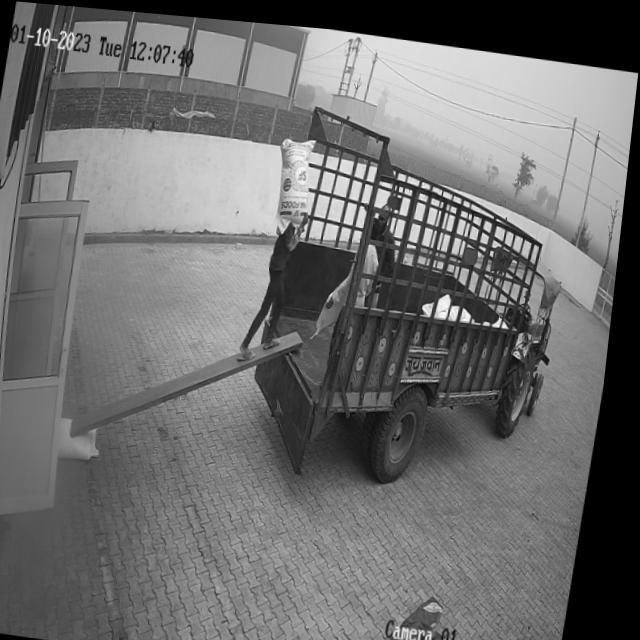sack: (272, 128, 322, 231), (65, 414, 112, 460)
